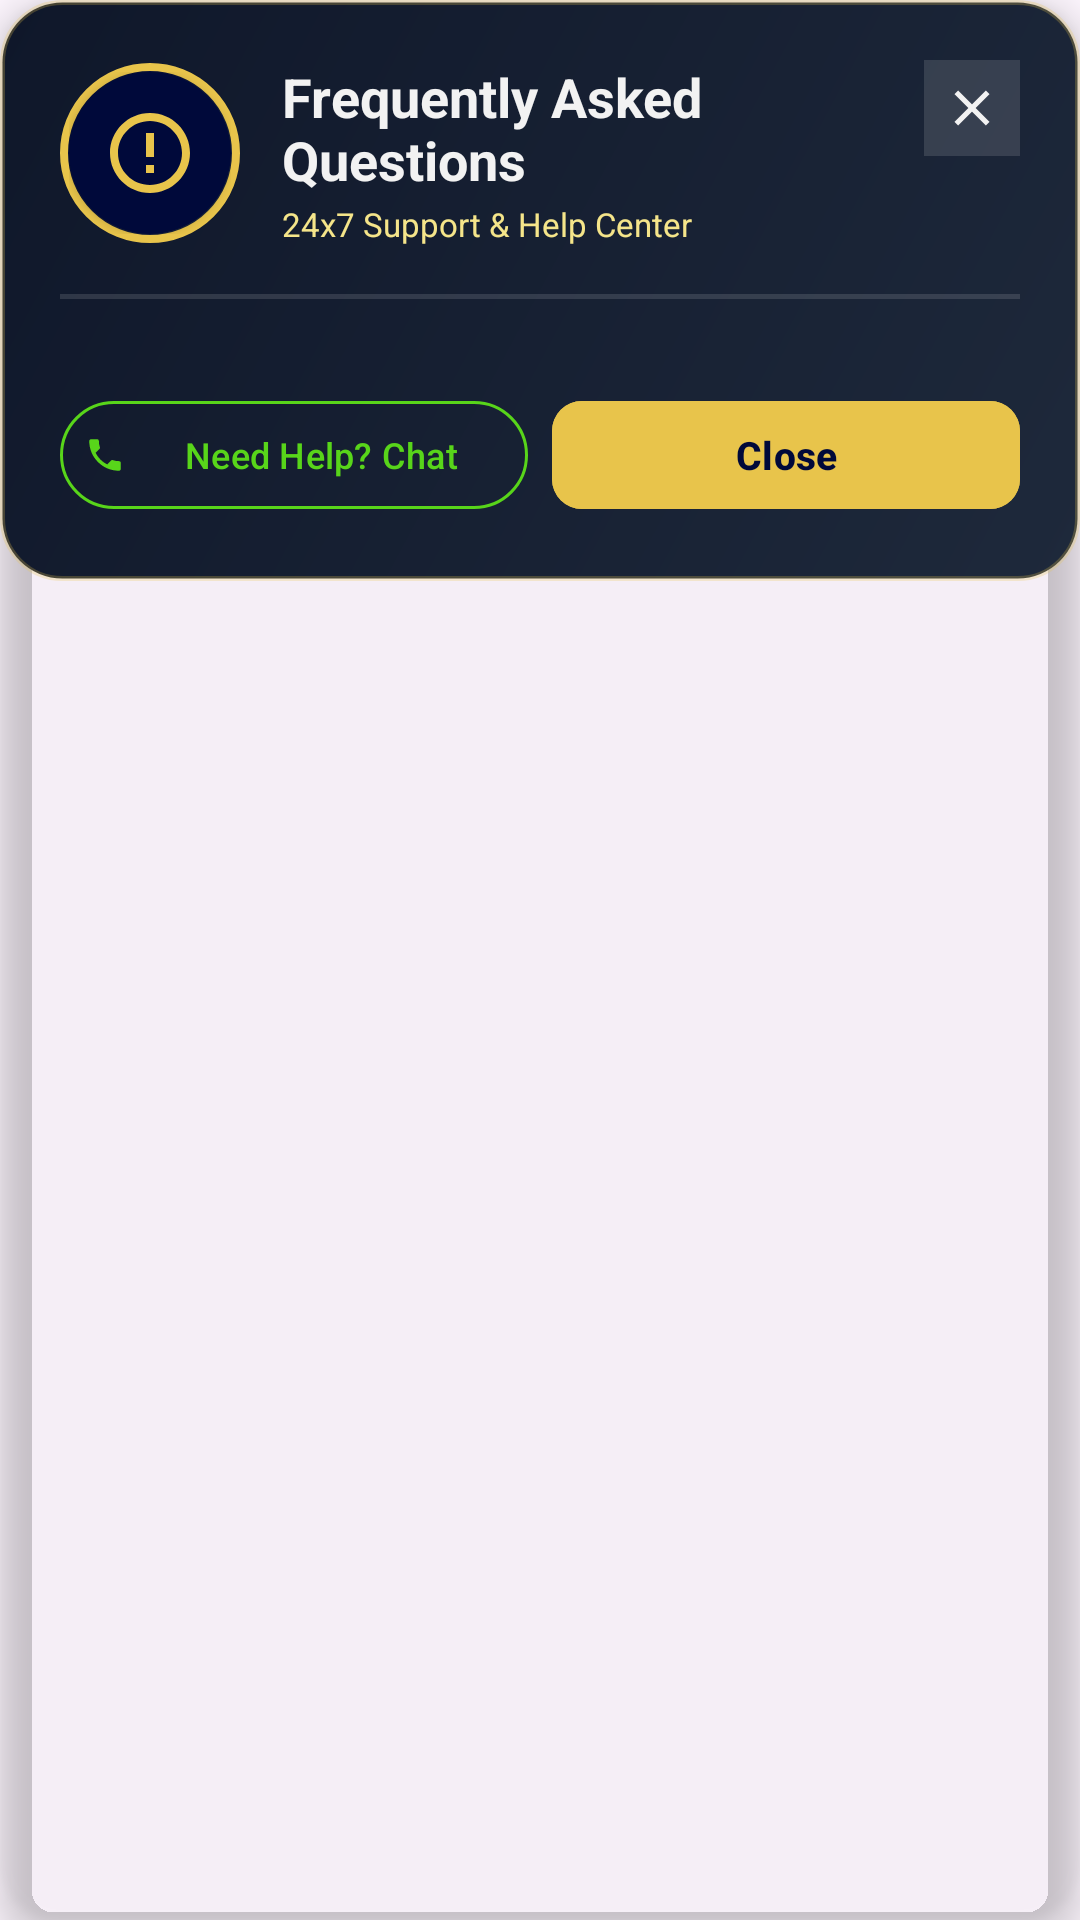

Icon click points for this 1080×1920 phone screenshot, format (x=x, y=y):
Close: (x=972, y=108)
